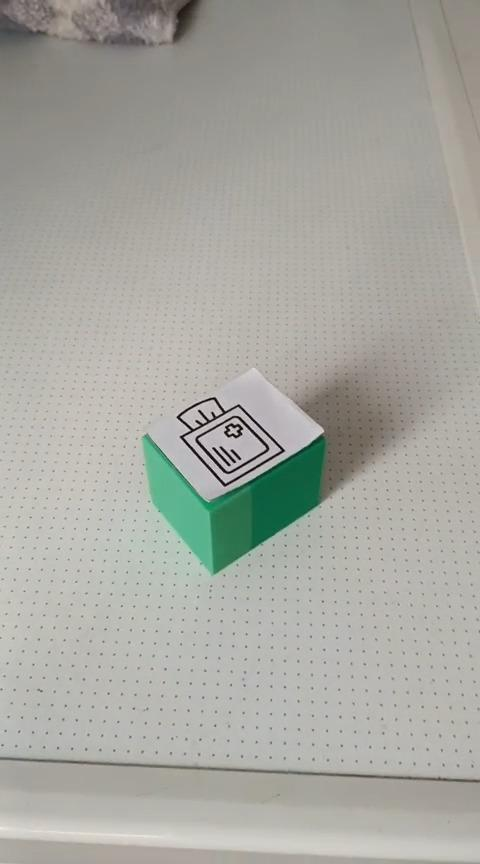Gauze: (140, 365, 327, 575)
